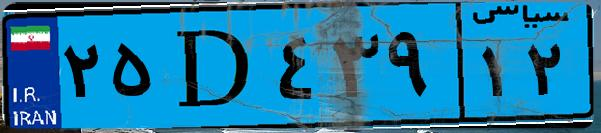1: (475, 38, 525, 113)
2: (57, 26, 110, 100), (525, 38, 570, 115)
3: (330, 28, 385, 110)
4: (270, 28, 330, 110)
5: (110, 28, 158, 98)
9: (385, 28, 445, 110)
D: (158, 12, 270, 120)
